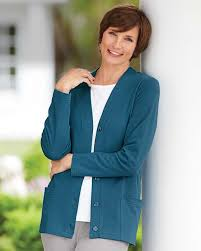S_cardigan sweater: (35, 67, 165, 244)
